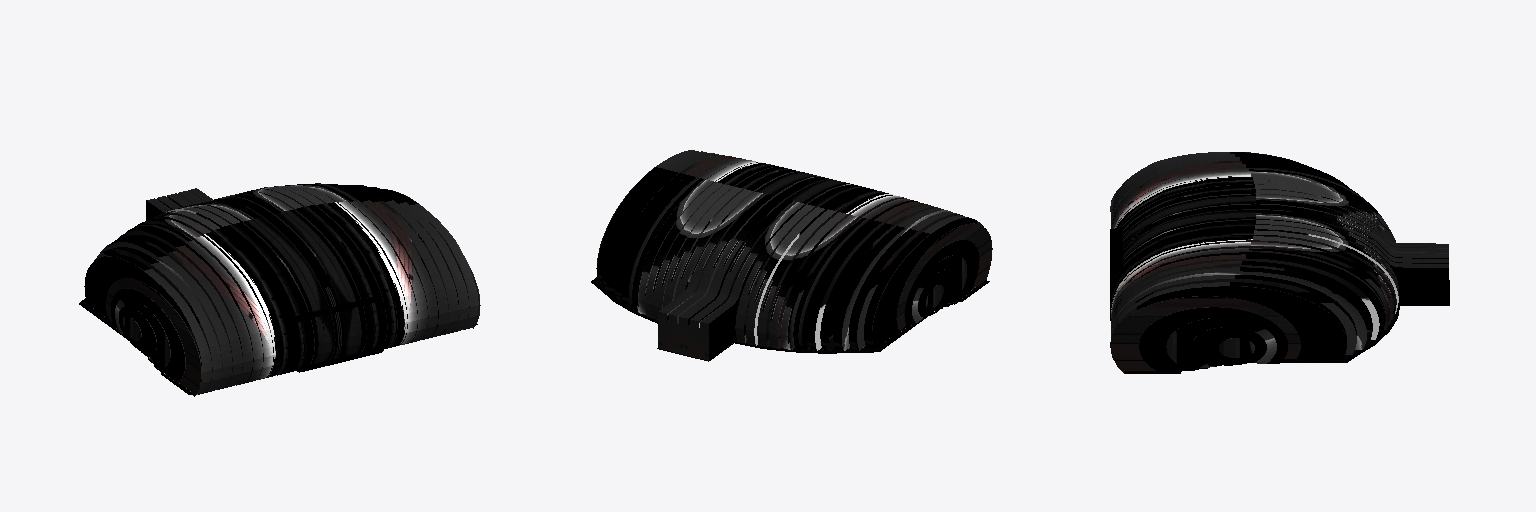
3 views of the same model, side by side, from view 1: azimuth 30°, elevation 25°; view 2: azimuth 150°, elevation 25°; view 3: azimuth 270°, elevation 25° (orthographic).
Parts seen in each view (by area): view 1: Dome, Floor; view 2: Dome, Floor; view 3: Dome, Floor.
Part boxes in pixels (x1,y1,x2,y2): Dome: (84,183,480,396); Floor: (79,297,477,394); Dome: (596,150,992,361); Floor: (591,277,989,360); Dome: (1110,152,1448,372); Floor: (1110,229,1449,373).
Bounding box in the file's own units: 35.51 × 11.52 × 35.96.
Materials: 3 (1 with a texture image).